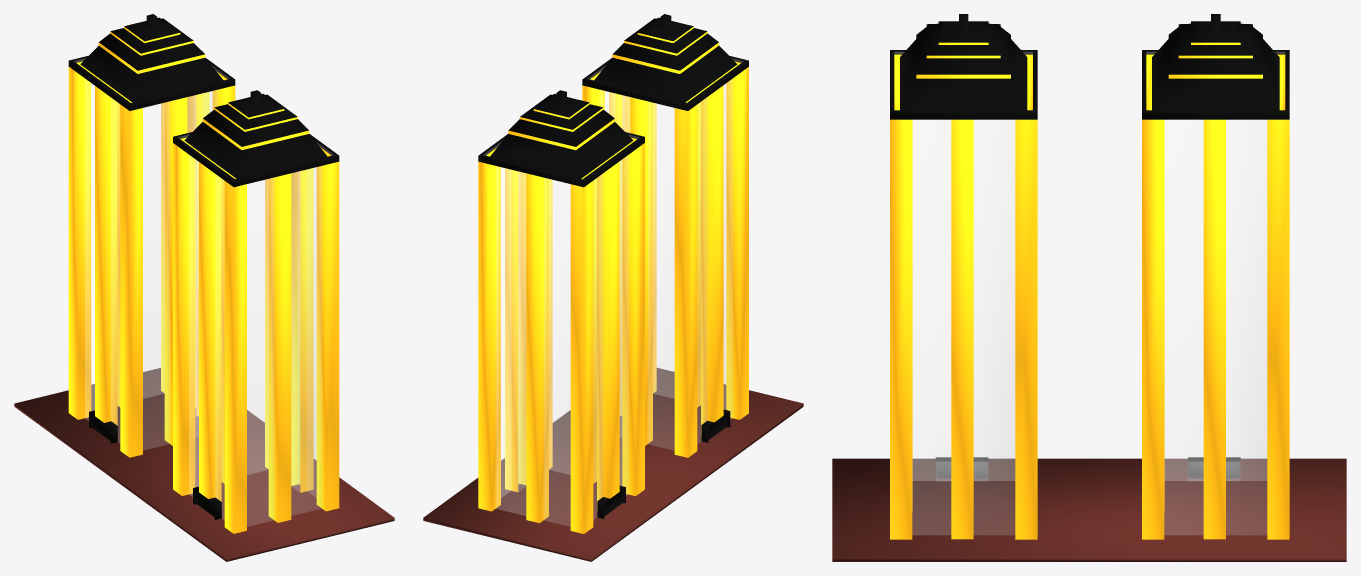
File: building4.glb
3 renders of one model, left to right at view 1: azimuth 30°, elevation 25°; view 2: azimuth 150°, elevation 25°; view 3: azimuth 270°, elevation 25°, orthographic. The views are drawn at different scales.
Parts seen in each view (by area): view 1: Smaller Twin Buildsing; view 2: Smaller Twin Buildsing; view 3: Smaller Twin Buildsing.
Part boxes in pixels (x1,y1,x2,y2): Smaller Twin Buildsing: (14, 14, 394, 561); Smaller Twin Buildsing: (423, 14, 803, 561); Smaller Twin Buildsing: (832, 14, 1346, 561).
Bounding box in the file's own units: 31.02 × 72.13 × 67.76.
